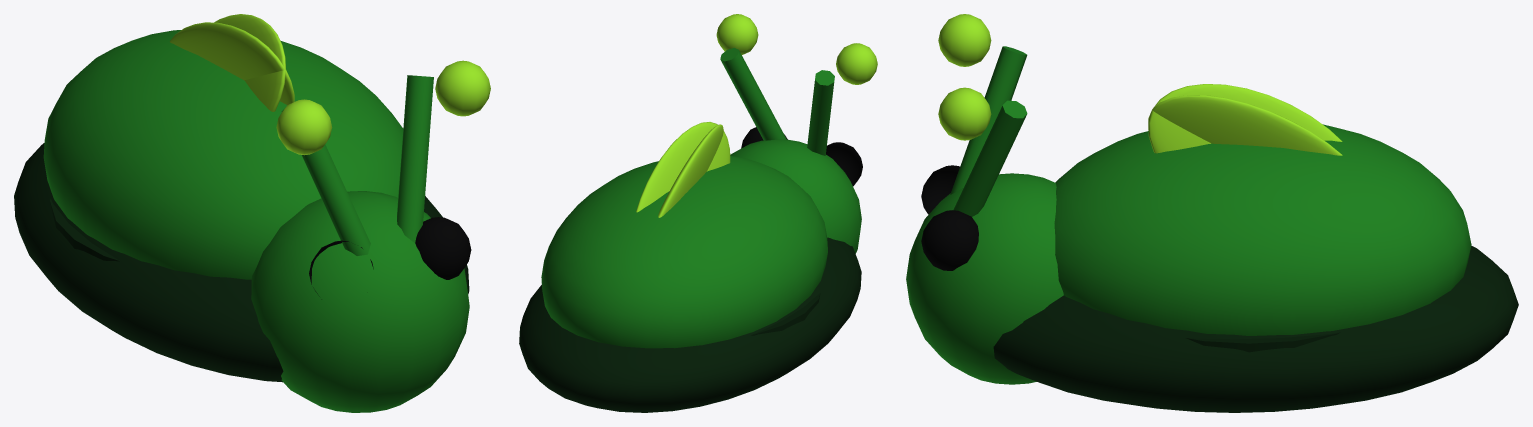
Rendered from espina.obj.
3 renders of one model, left to right at view 1: azimuth 30°, elevation 25°; view 2: azimuth 150°, elevation 25°; view 3: azimuth 270°, elevation 25°, orthographic. The views are drawn at different scales.
Bounding box in the file's own units: 0.448 × 0.4234 × 0.7246.
